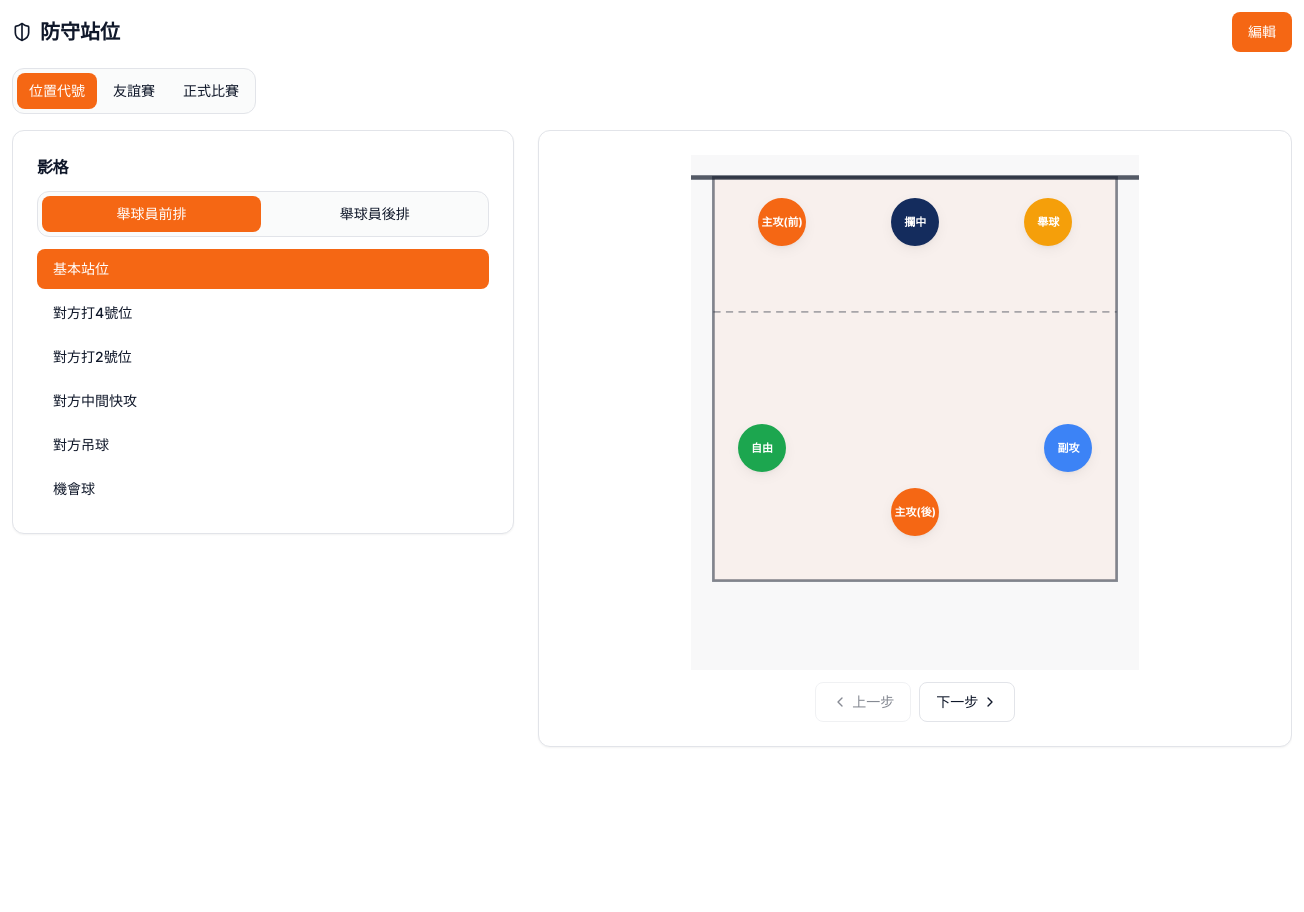
it: 防守站位頁 › 刪除正在檢視的情況後回到基本站位
Click the button "編輯": [1262, 32] box [1232,12,1292,52]
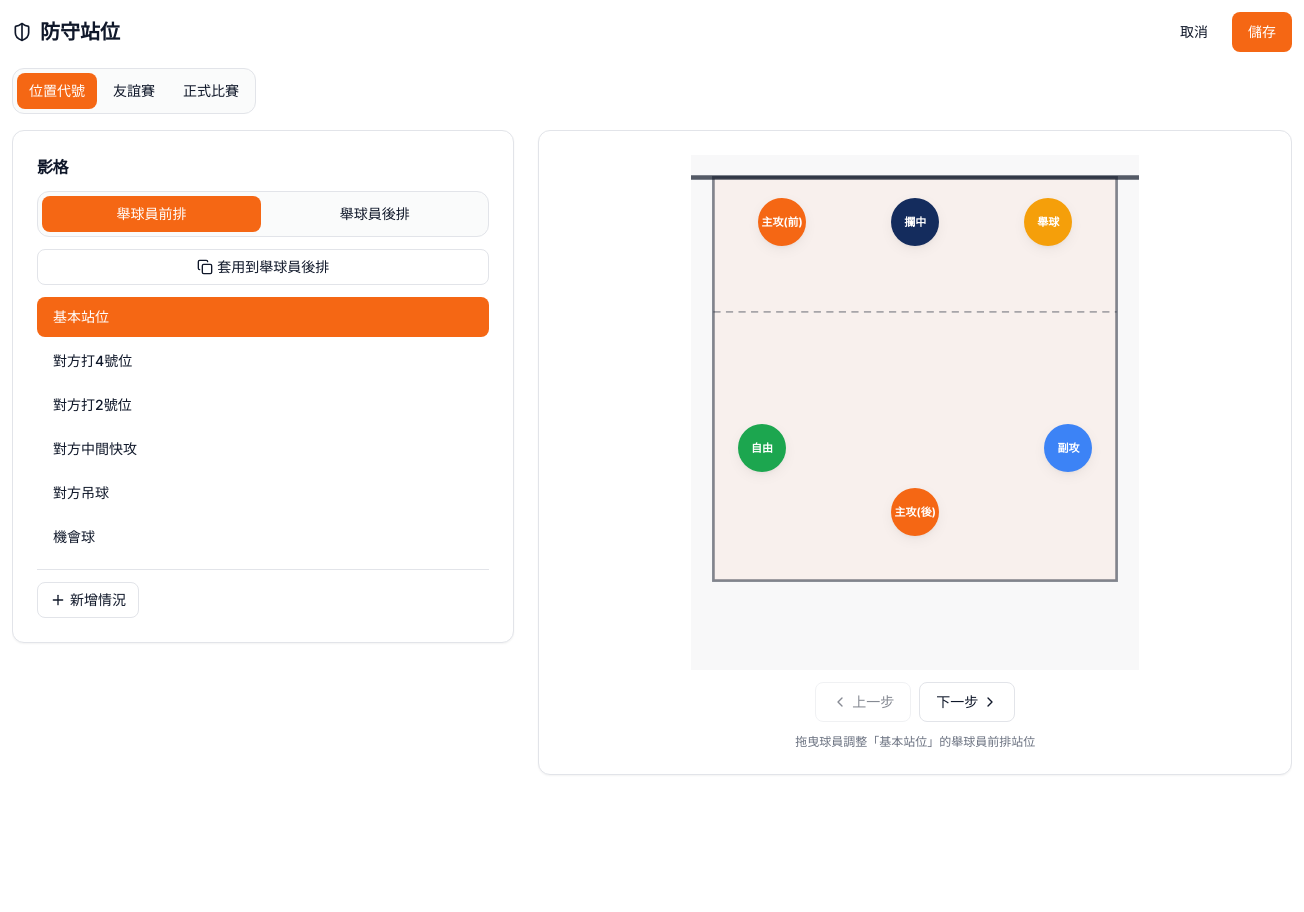
Click the button "對方吊球": [81, 492] box [37,473,489,513]
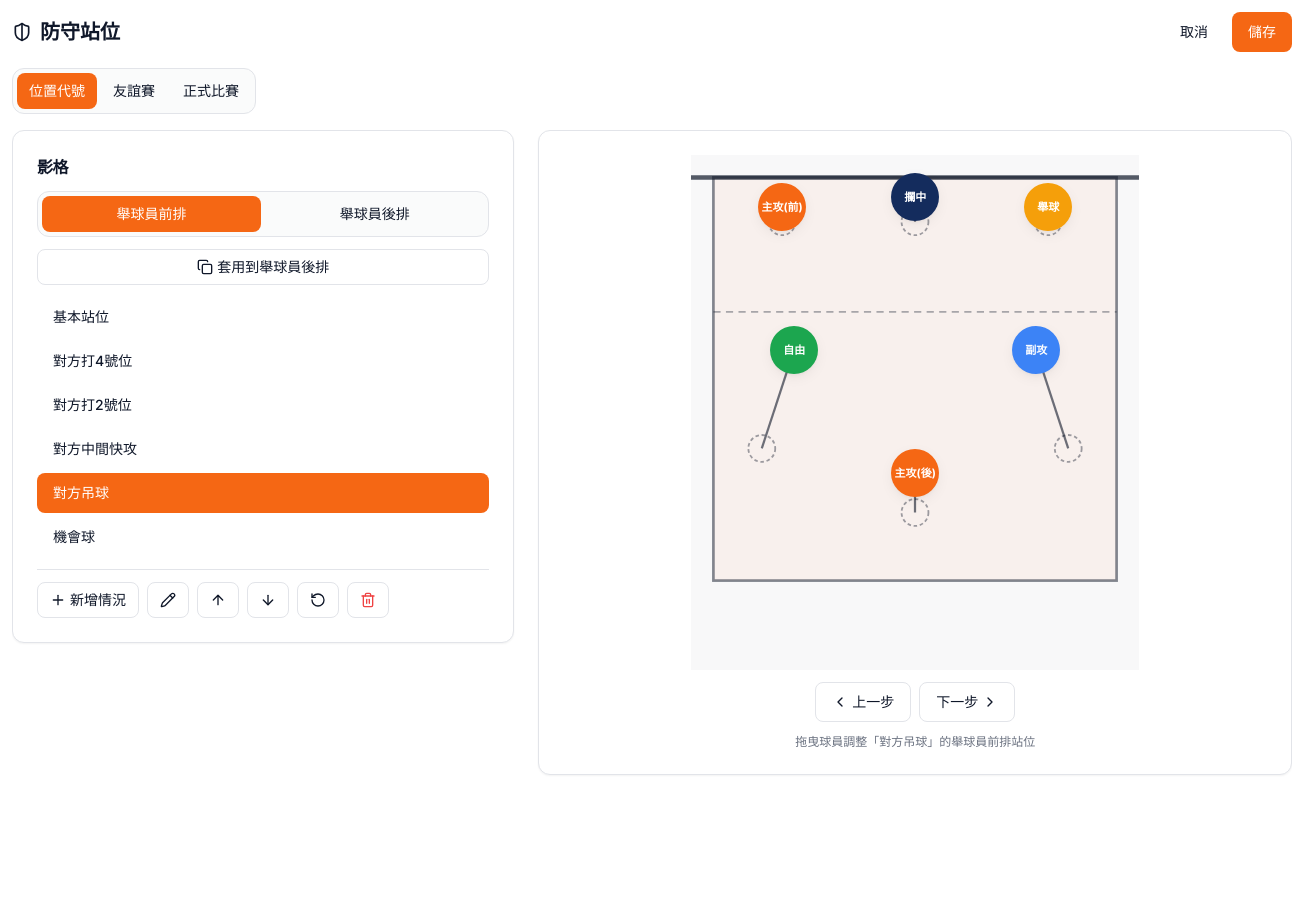
Click the button named "刪除情況": [368, 600] box [347,582,389,618]
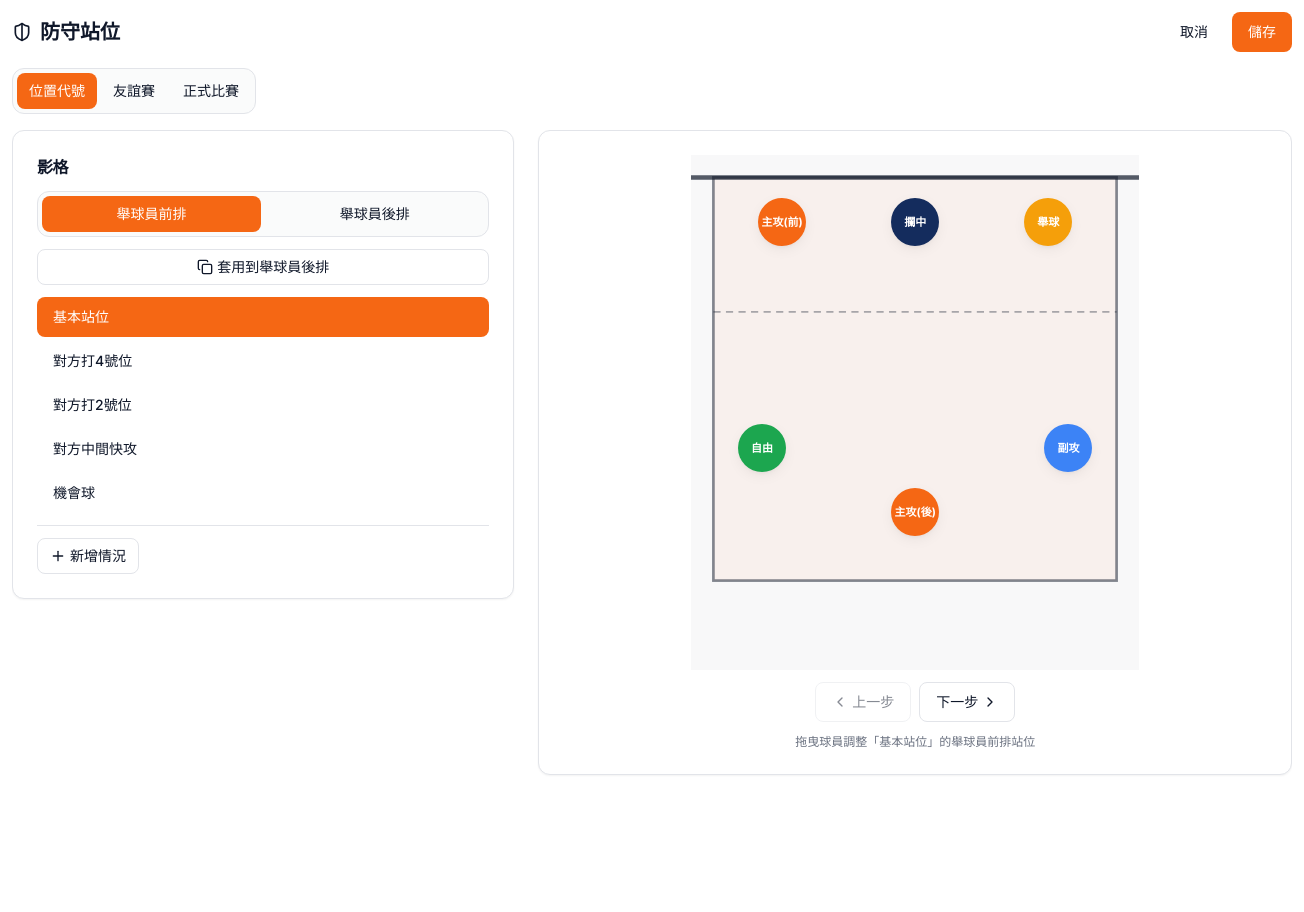
expect the button "對方吊球" is gone: met
